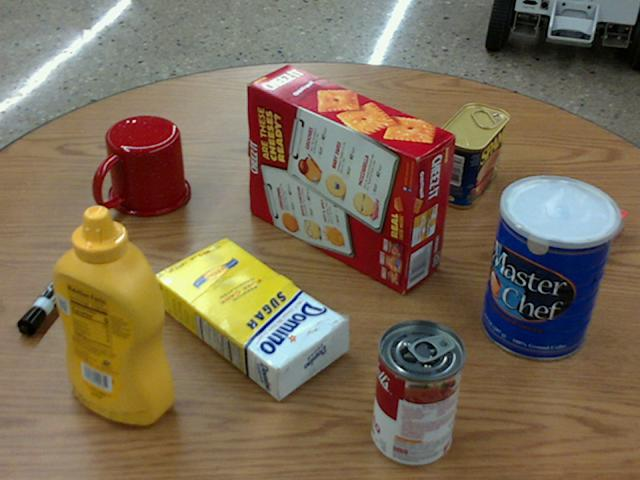cracker_box: (247, 66, 453, 293)
gelatin_box: (527, 187, 627, 265)
large_marker: (17, 246, 93, 331)
master_chef_can: (481, 175, 618, 360)
mug: (94, 116, 190, 216)
mustard_bottle: (51, 205, 171, 422)
potted_meat_can: (434, 103, 509, 207)
sugar_box: (153, 236, 347, 400)
tomato_soup_can: (371, 320, 464, 466)
tuna_fish_can: (247, 78, 320, 151)
